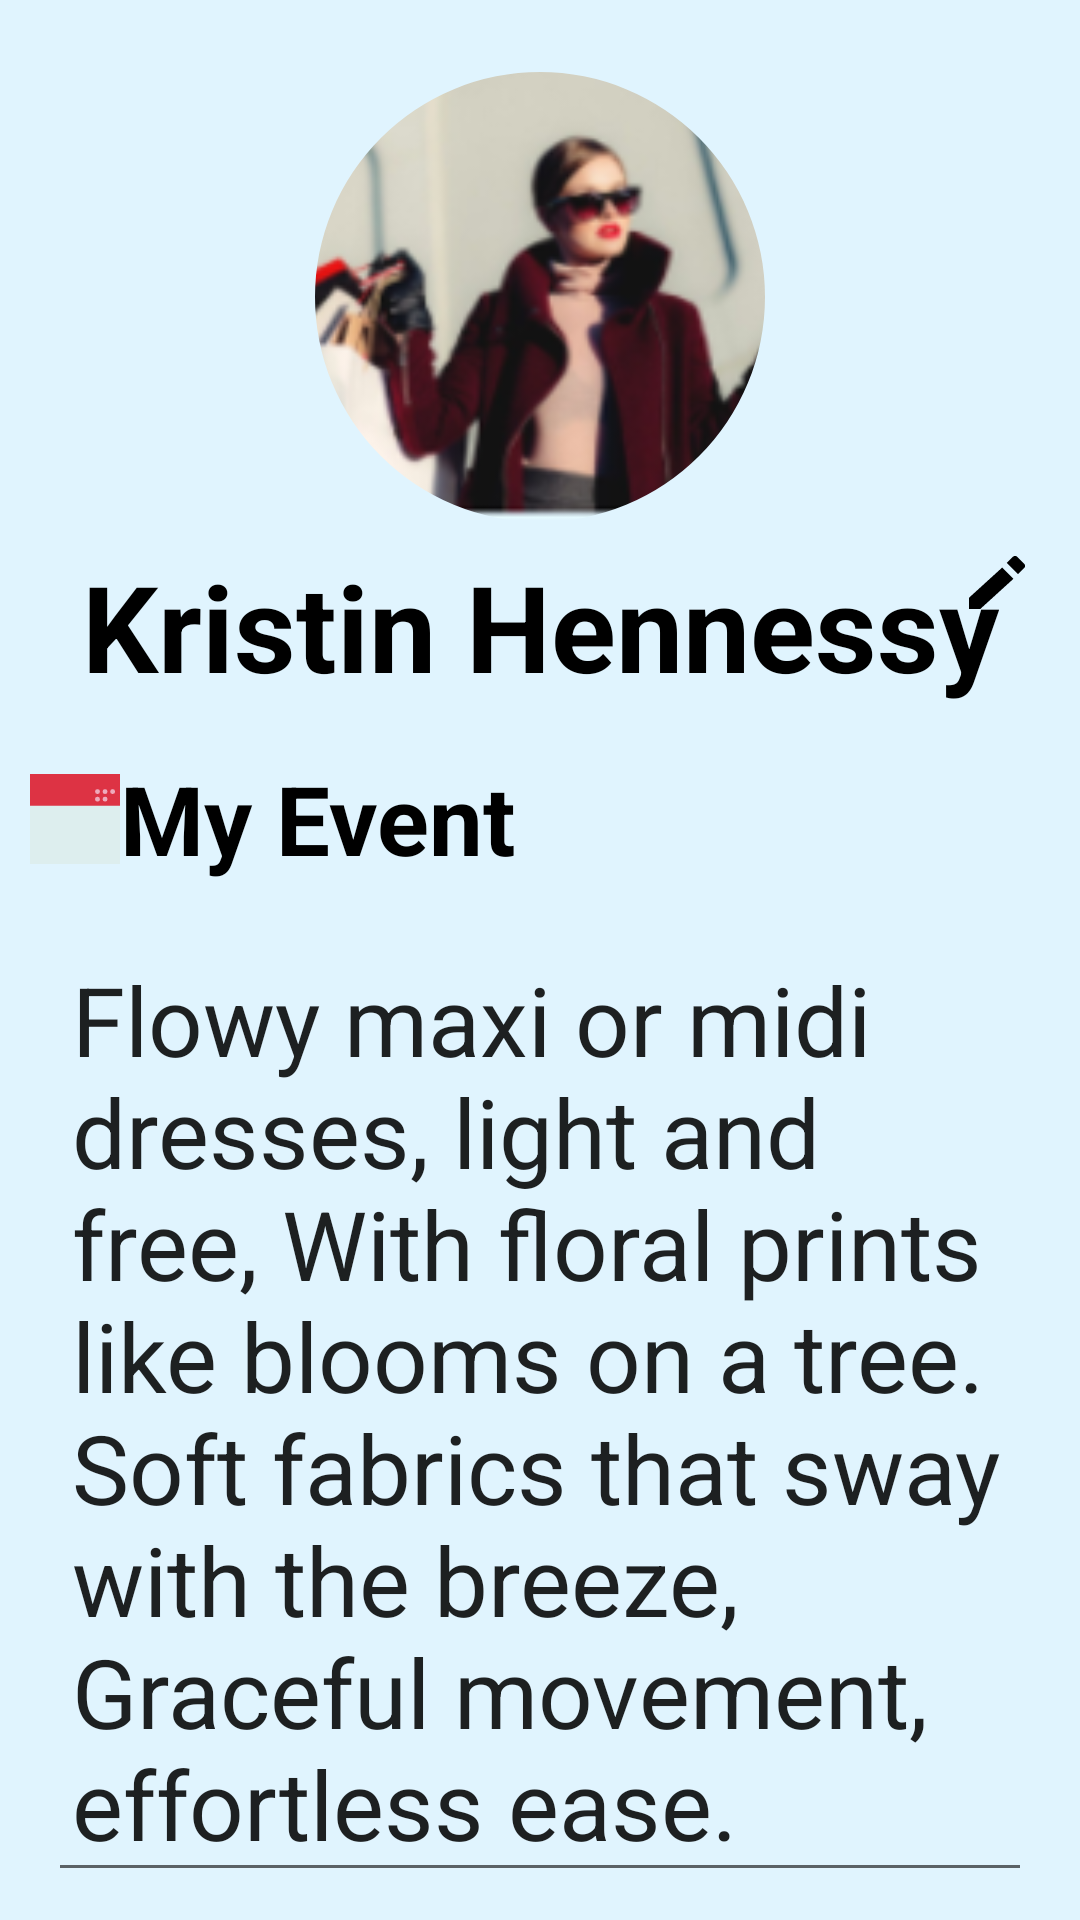

Icon click points for this 1080×1920 phone screenshot, format point (x, y):
edit: point (997, 587)
